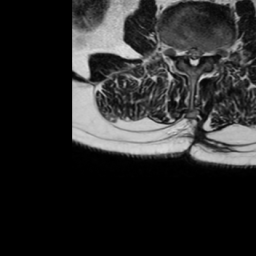CCS_normal: (191, 43, 197, 72)
LFS_stenosis: (205, 44, 212, 61)
LLS_stenosis: (197, 44, 204, 63)
RFS_stenosis: (176, 44, 184, 63)
RLS_stenosis: (184, 44, 192, 63)
